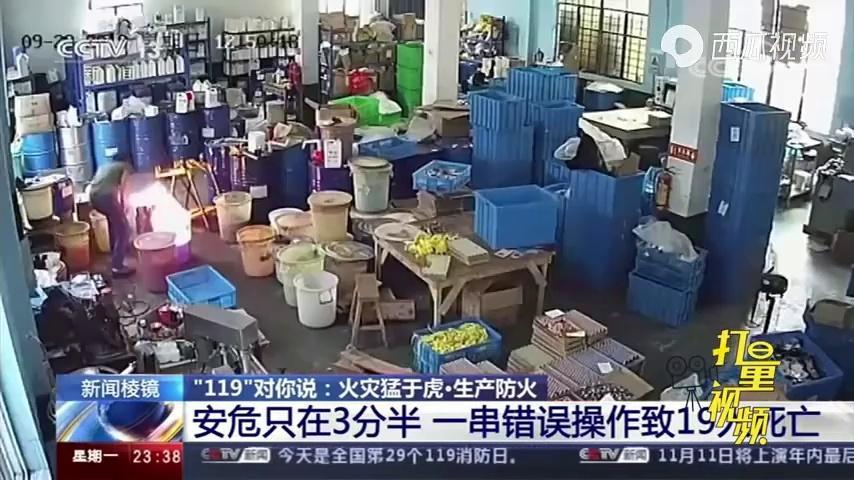fire: (112, 144, 229, 282)
